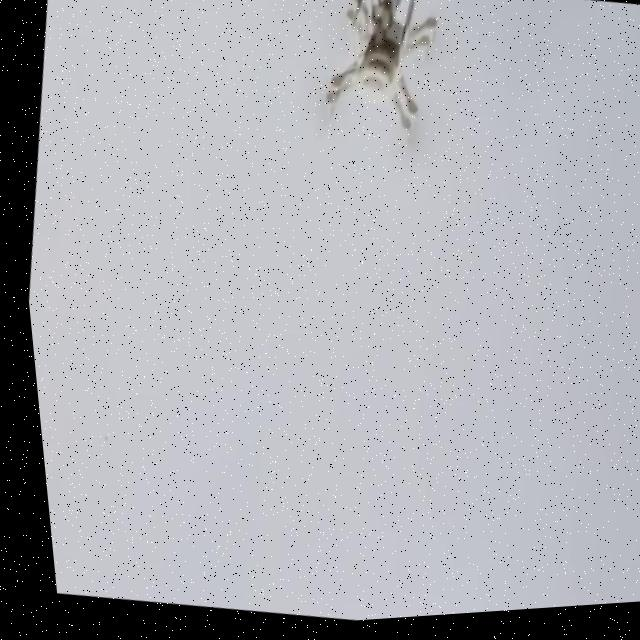drones: (263, 0, 494, 210)
